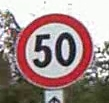limite 50: (14, 13, 93, 88)
